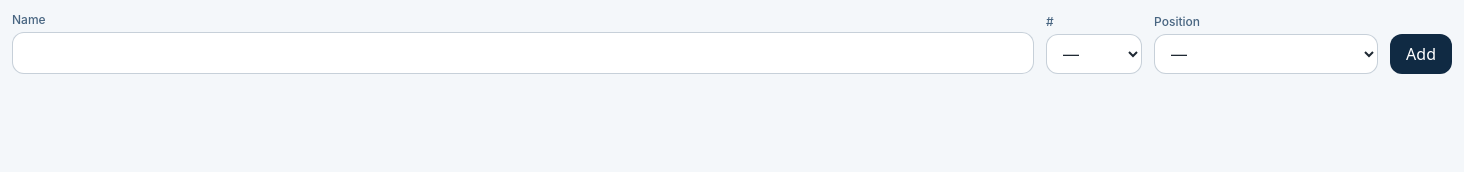
it: PlayerAddForm › surfaces server validation problem title on 400
Type "Sam" into the field labelled "Name" at (523, 53), box [12,32,1034,74]
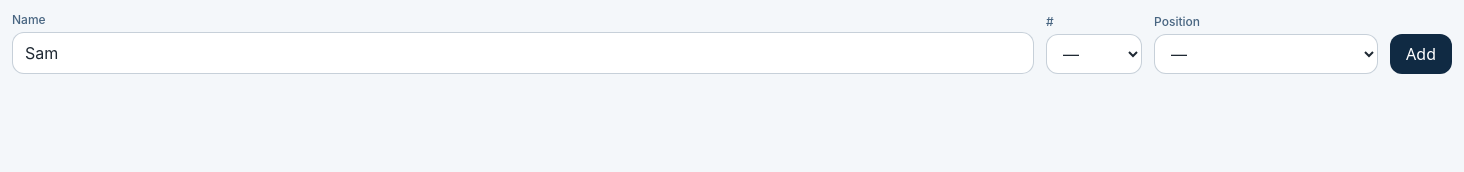
Submit the form named "add player", box [12,12,1452,74]
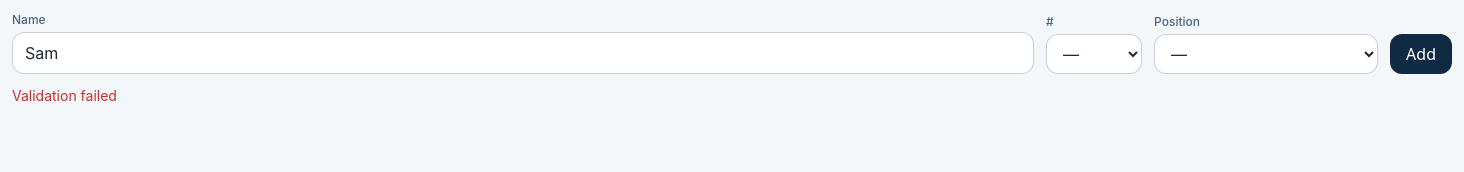
Result: the message reads "Validation failed" at [12,87,117,104]
